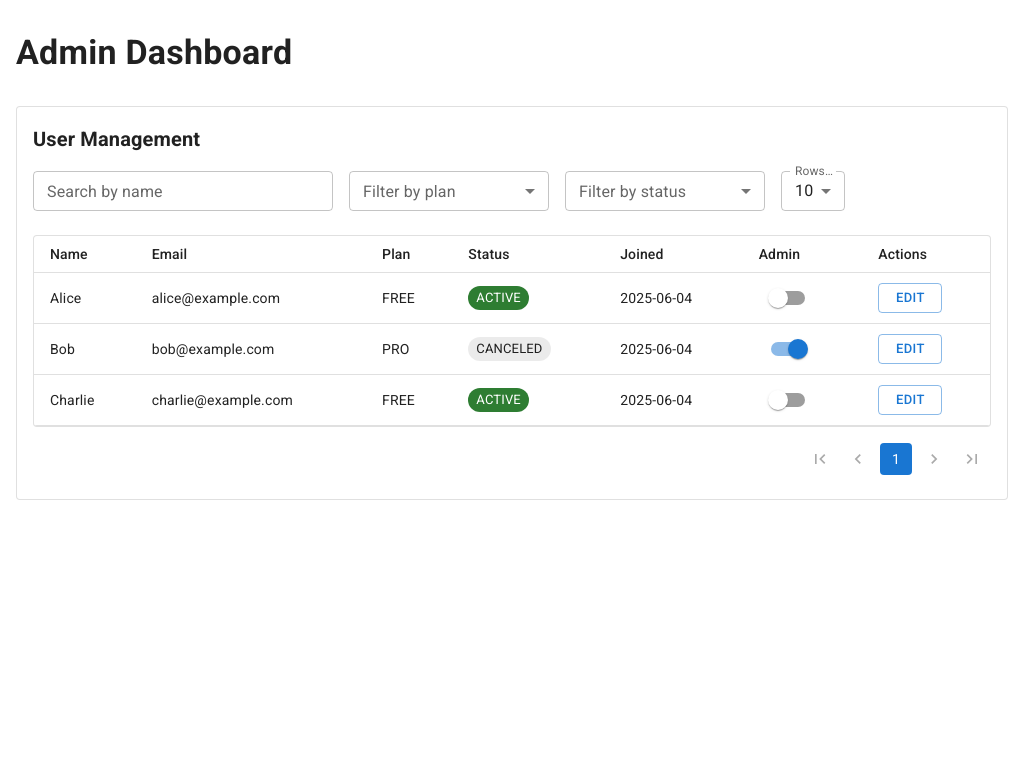
Test: AdminDashboard › opens edit modal when clicking Edit
The image size is (1024, 768).
What coordinates should you click on to do the following:
click the button "Edit" in the row of "alice@example.com"
I would click on:
 (910, 298)
Its box is 878,283 -> 942,313.
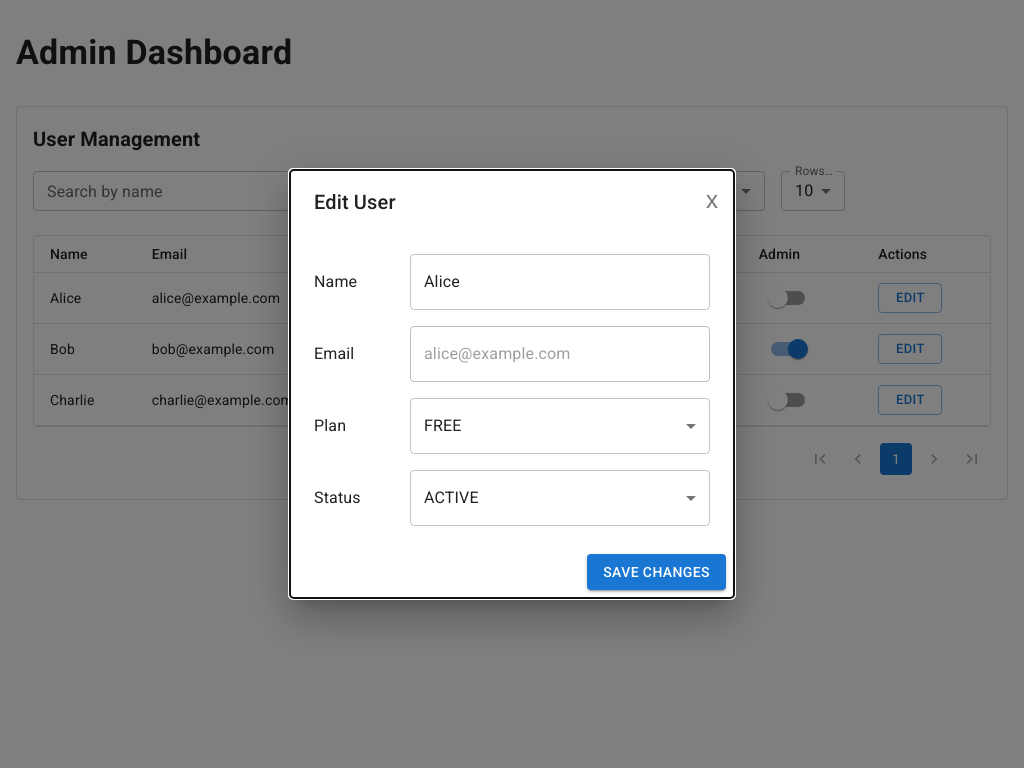
Expected: the heading "Edit User" is shown, 314,190 -> 396,214
Expected: the 1st field showing "Alice" is shown, 410,254 -> 710,310
